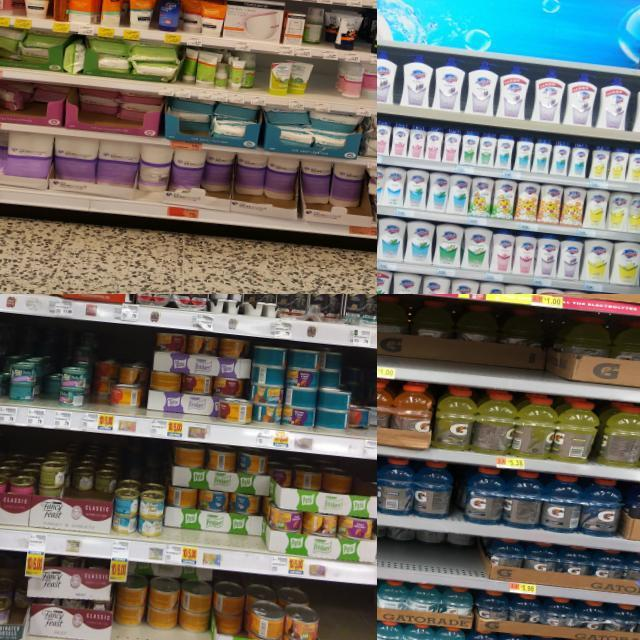Imprecise: (374, 300, 584, 390), (168, 440, 272, 552), (114, 557, 215, 640), (0, 87, 164, 134), (207, 152, 297, 215), (376, 530, 484, 579), (302, 158, 368, 218), (90, 354, 148, 417), (170, 95, 212, 144), (347, 388, 378, 433), (40, 362, 64, 406), (243, 56, 261, 90)
